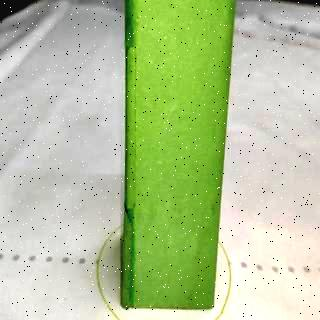greenbox: (119, 0, 243, 310)
